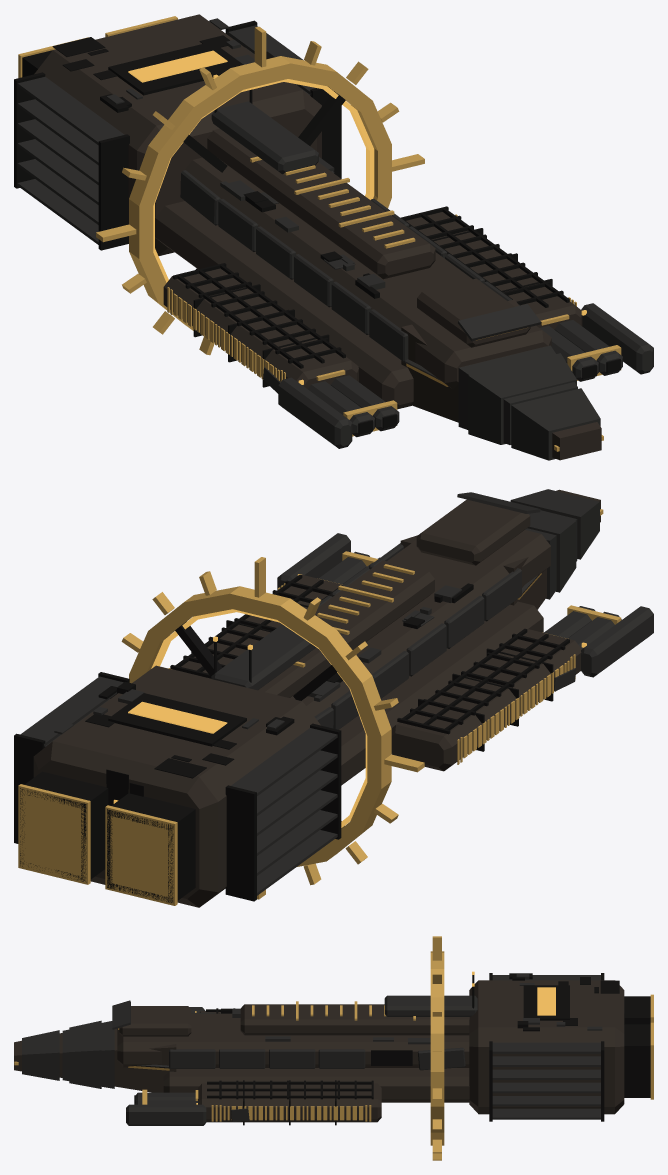
Rendered from goniec-wybudzeni-hawk-21-lod0.glb.
3 views of the same model, one above another, from view 1: azimuth 30°, elevation 25°; view 2: azimuth 150°, elevation 25°; view 3: azimuth 270°, elevation 25° (orthographic). The views are drawn at different scales.
Size of the model in its own units: 5.87 by 5.87 by 15.29.
